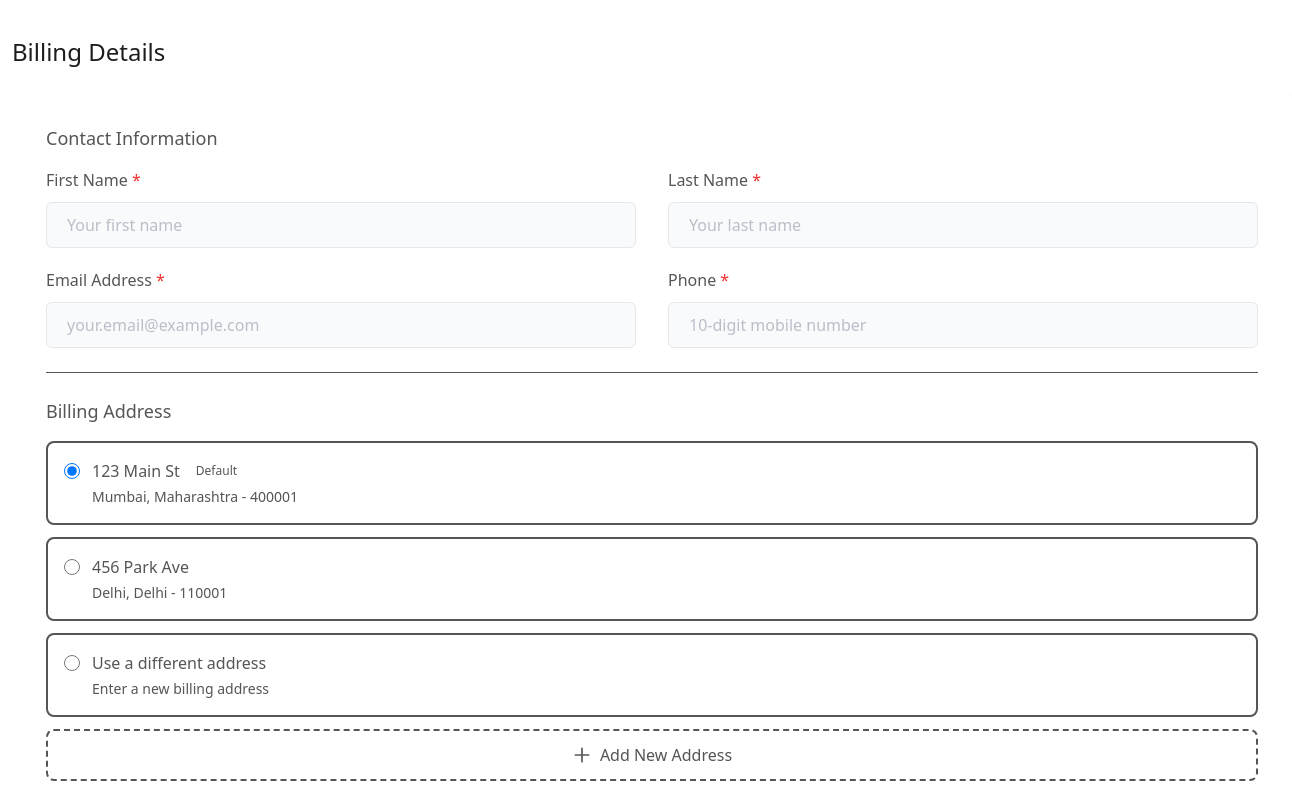
BillingNew › Unit Tests - Logged-in User with Addresses › should show address form when "Use a different address" is selected
Check: the text "Use a different address" is shown, box left=92, top=652, right=266, bottom=674
Click the radio button labelled "Use a different address Enter a new billing address" at (72, 663), box left=64, top=655, right=80, bottom=671
(page scrolled)
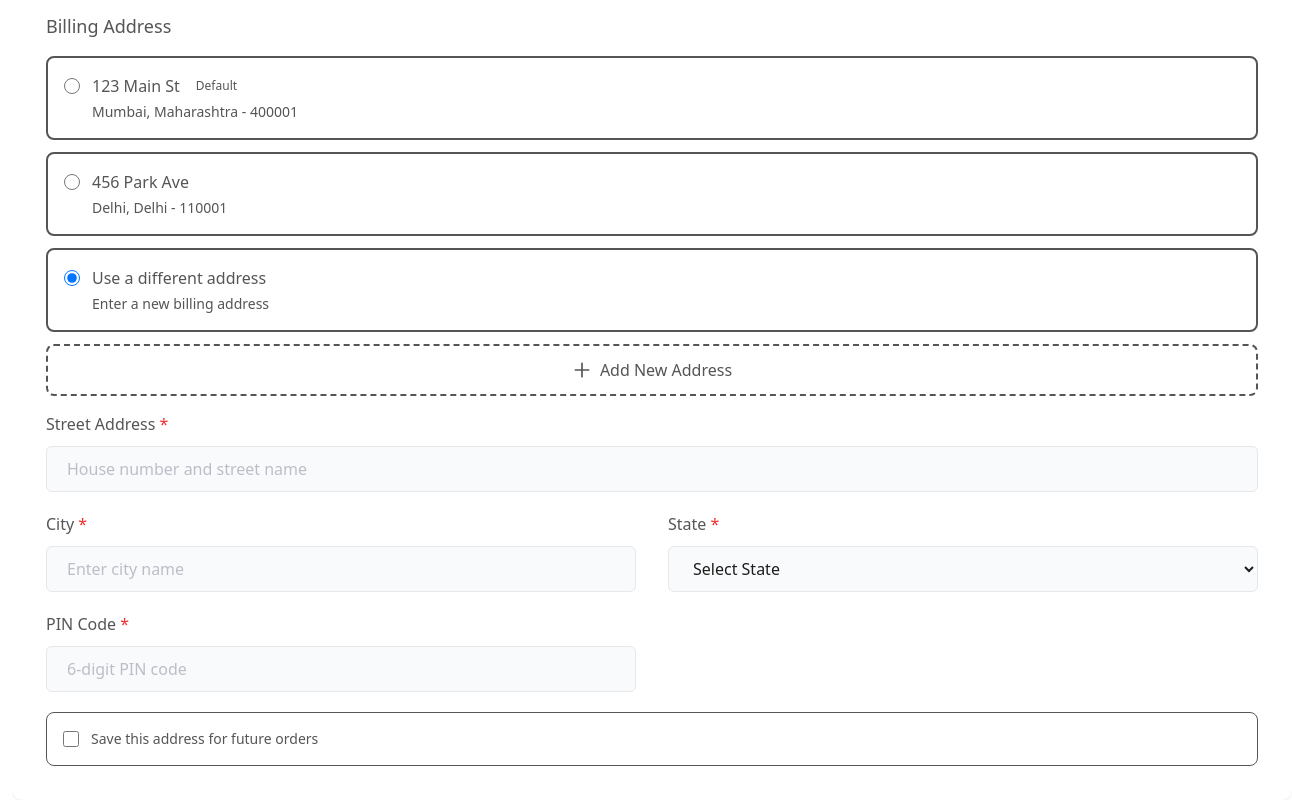
Check: the field with placeholder "House number and street name" is shown, box left=46, top=446, right=1258, bottom=492
